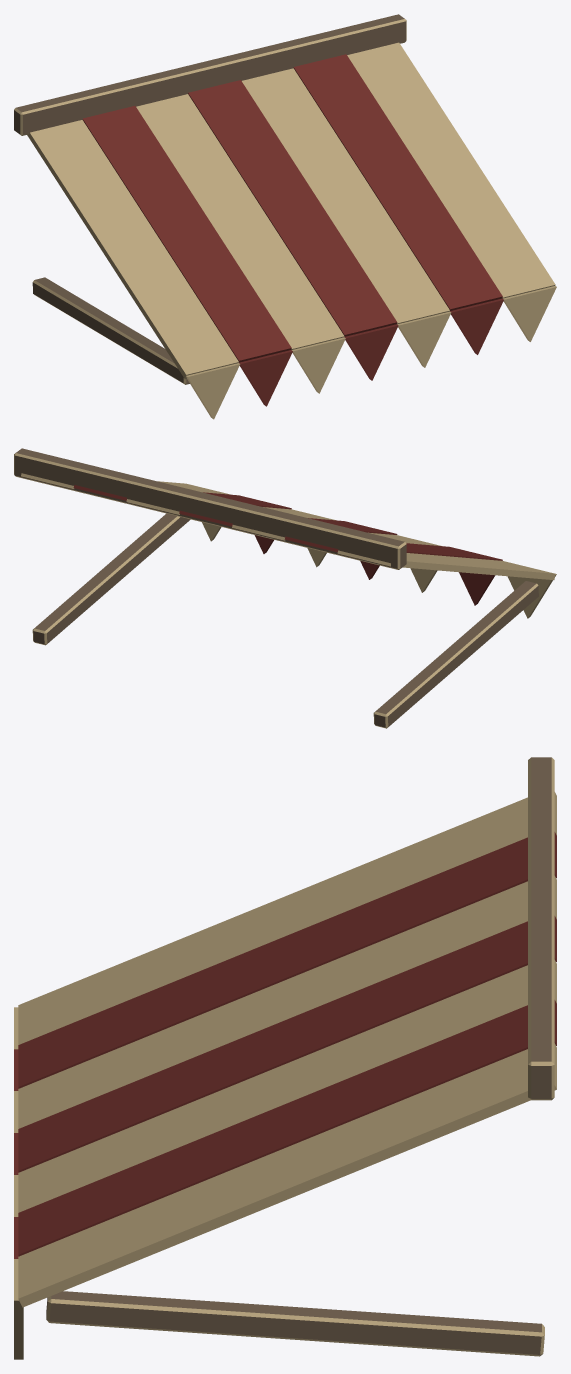
Rendered from awning.glb.
The picture shows the model from 3 angles, top to bottom: view 1: azimuth 30°, elevation 25°; view 2: azimuth 150°, elevation 25°; view 3: azimuth 270°, elevation 25°; orthographic projection. The views are drawn at different scales.
Parts seen in each view (by area): view 1: Awning; view 2: Awning; view 3: Awning.
Boxes of the visible parts, x1,y1,x2,y2 form: Awning: (14, 14, 556, 419); Awning: (14, 448, 556, 728); Awning: (14, 757, 556, 1359).
Size of the model in its own units: 1.36 by 0.67 by 1.02.
